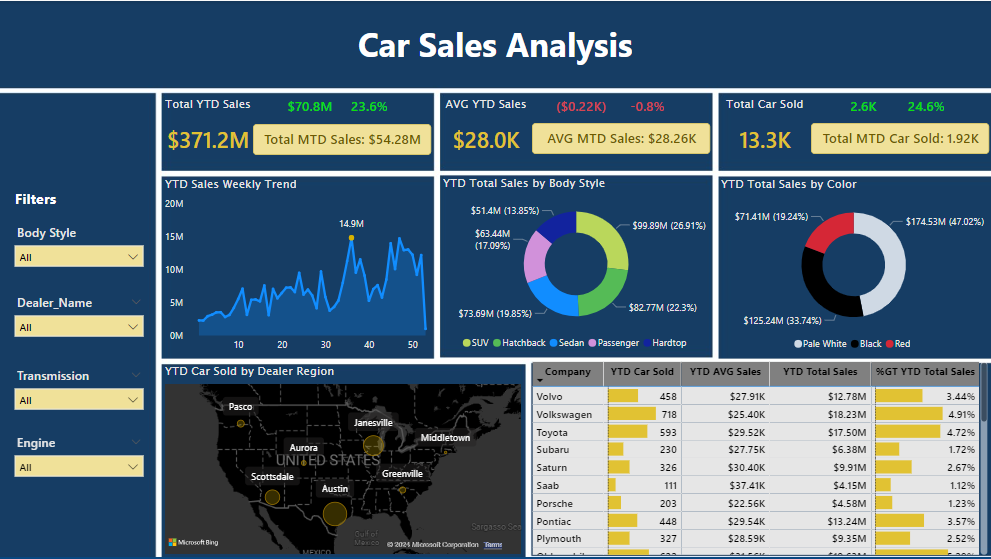

The page's visual inventory and layout, read from the dashboard file:
{"tool":"powerbi","page":{"name":"Page 1","canvas":[1280,720],"ordinal":0},"visuals":[{"type":"textbox","box":[0,20.9,1280.6,70.1],"z":0},{"type":"card","title":"Total YTD Sales","fields":{"Values":["car_data.YTD Total Sales"]},"box":[209,122.4,121,91],"z":1000},{"type":"card","fields":{"Values":["car_data.YTD Sales Difference"]},"box":[364.2,117.9,75,40.3],"z":2000},{"type":"card","fields":{"Values":["car_data.YTD Total Growth"]},"box":[444.8,117.9,65.7,40.3],"z":3000},{"type":"card","fields":{"Values":["Calendar Table.Total MTD CONCAT"]},"box":[328.4,158.2,229.9,40.3],"z":4000},{"type":"card","title":"AVG YTD Sales","fields":{"Values":["car_data.YTD AVG Sales"]},"box":[568.2,121.9,121,91],"z":5000},{"type":"card","fields":{"Values":["car_data.YTD AVG Sales Difference"]},"box":[713.4,117.9,75,40.3],"z":6000},{"type":"card","fields":{"Values":["car_data.YTD AVG Sales Growth"]},"box":[804,117.5,65.7,40.3],"z":7000},{"type":"card","fields":{"Values":["car_data.AVG MTD KPI"]},"box":[687.6,157.8,229.9,40.3],"z":8000},{"type":"card","title":"Total Car Sold","fields":{"Values":["car_data.Total YTD Car Sales"]},"box":[927.9,121.9,120.9,91],"z":9000},{"type":"card","fields":{"Values":["car_data.Total Car Sales Difference"]},"box":[1083.1,117.5,65.7,40.3],"z":10000},{"type":"card","fields":{"Values":["car_data.Total YTD Car Sales Growth"]},"box":[1163.7,117.5,65.7,40.3],"z":11000},{"type":"card","fields":{"Values":["car_data.MTD Car Sold KPI"]},"box":[1047.3,157.8,229.9,40.3],"z":12000},{"type":"areaChart","title":"YTD Sales Weekly Trend","fields":{"Category":["Calendar Table.Week"],"Y":["Sum(car_data.Price ($))","car_data.Max Point"]},"box":[209,225.4,350.7,235.8],"z":13000},{"type":"donutChart","fields":{"Category":["car_data.Body Style"],"Y":["car_data.YTD Total Sales"]},"box":[567.9,224,353.9,235.5],"z":14000},{"type":"donutChart","fields":{"Y":["car_data.YTD Total Sales"],"Category":["car_data.Color"]},"box":[926.9,225.4,352.9,235.3],"z":15000},{"type":"map","title":"YTD Car Sold by Dealer Region","fields":{"Category":["car_data.Dealer_Region"],"Size":["car_data.Total YTD Car Sales"]},"box":[209.2,466.6,470.2,251],"z":16000},{"type":"tableEx","fields":{"Values":["car_data.Company","car_data.Total YTD Car Sales","car_data.YTD AVG Sales","car_data.YTD Total Sales","Divide(car_data.YTD Total Sales, ScopedEval(car_data.YTD Total Sales, []))"]},"box":[682.6,460.6,598,259.4],"z":17000},{"type":"slicer","fields":{"Values":["car_data.Body Style"]},"box":[10,282.5,185.5,77.1],"z":18000},{"type":"textbox","box":[10,236.9,171.2,35.7],"z":19000},{"type":"slicer","fields":{"Values":["car_data.Dealer_Name"]},"box":[10,372.4,185.5,77.1],"z":20000},{"type":"slicer","fields":{"Values":["car_data.Transmission"]},"box":[10,466.6,185.5,77.1],"z":21000},{"type":"slicer","fields":{"Values":["car_data.Engine"]},"box":[10,553.7,185.5,77.1],"z":22000}]}

Visuals, with their boxes in screenshot pixels (x1, y1, x2, y2), scaled from the page's 1280x720 canvas onto the 991x559 screenshot:
textbox: 0, 16, 990, 71
"Total YTD Sales" card: 162, 95, 255, 166
card - car_data.YTD Sales Difference: 282, 92, 340, 123
card - car_data.YTD Total Growth: 344, 92, 395, 123
card - Calendar Table.Total MTD CONCAT: 254, 123, 432, 154
"AVG YTD Sales" card: 440, 95, 534, 165
card - car_data.YTD AVG Sales Difference: 552, 92, 610, 123
card - car_data.YTD AVG Sales Growth: 622, 91, 673, 123
card - car_data.AVG MTD KPI: 532, 123, 710, 154
"Total Car Sold" card: 718, 95, 812, 165
card - car_data.Total Car Sales Difference: 839, 91, 889, 123
card - car_data.Total YTD Car Sales Growth: 901, 91, 952, 123
card - car_data.MTD Car Sold KPI: 811, 123, 989, 154
"YTD Sales Weekly Trend" areaChart: 162, 175, 433, 358
donutChart - car_data.Body Style x car_data.YTD Total Sales: 440, 174, 714, 357
donutChart - car_data.YTD Total Sales x car_data.Color: 718, 175, 990, 358
"YTD Car Sold by Dealer Region" map: 162, 362, 526, 557
tableEx - car_data.Company x car_data.Total YTD Car Sales: 528, 358, 990, 558
slicer - car_data.Body Style: 8, 219, 151, 279
textbox: 8, 184, 140, 212
slicer - car_data.Dealer_Name: 8, 289, 151, 349
slicer - car_data.Transmission: 8, 362, 151, 422
slicer - car_data.Engine: 8, 430, 151, 490
